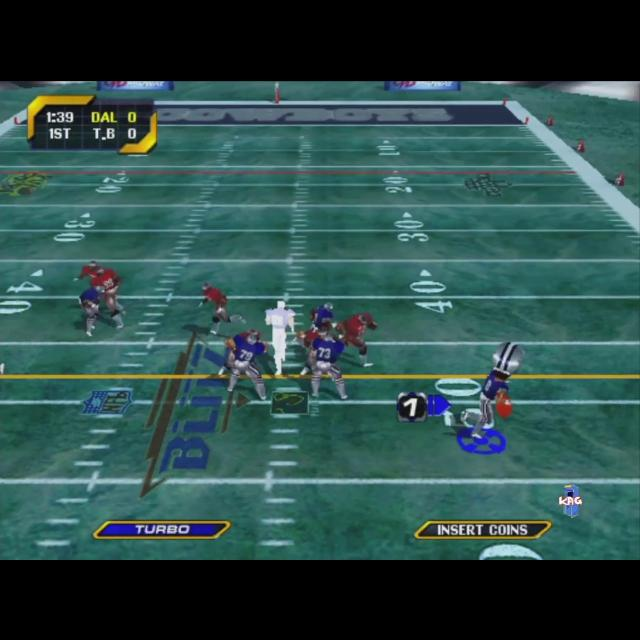player: (464, 342, 524, 438), (218, 328, 270, 400), (300, 325, 348, 399), (76, 260, 126, 330), (86, 263, 126, 327), (198, 280, 245, 334), (334, 311, 378, 367), (264, 298, 296, 374), (296, 322, 330, 376), (78, 284, 106, 336), (309, 301, 335, 331)
